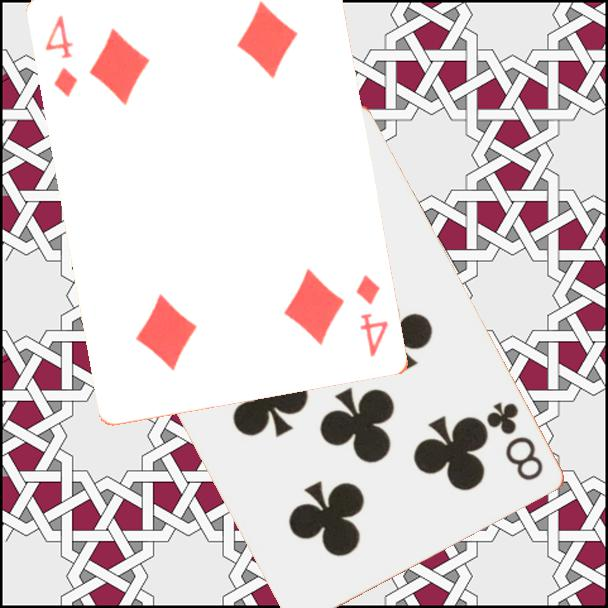c08: (482, 398, 546, 484)
d04: (352, 271, 392, 360), (42, 11, 81, 101)
